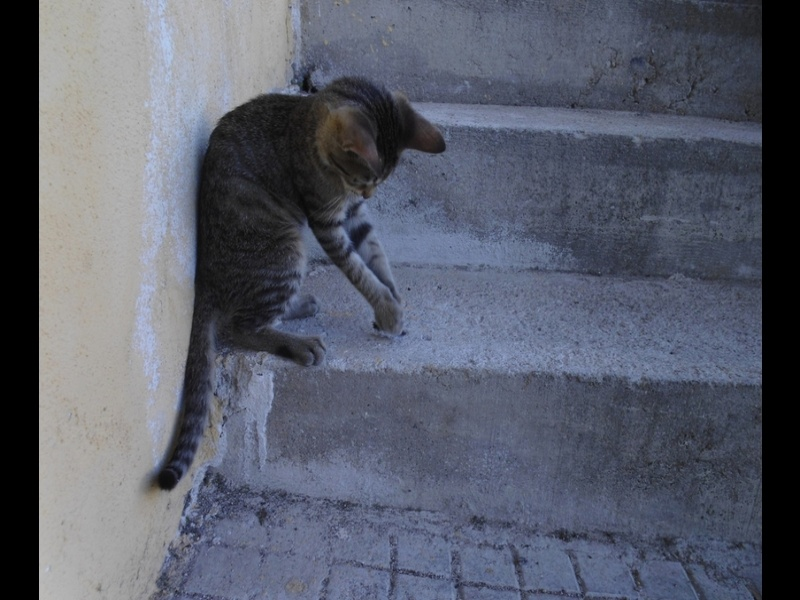cat: (152, 75, 444, 496)
